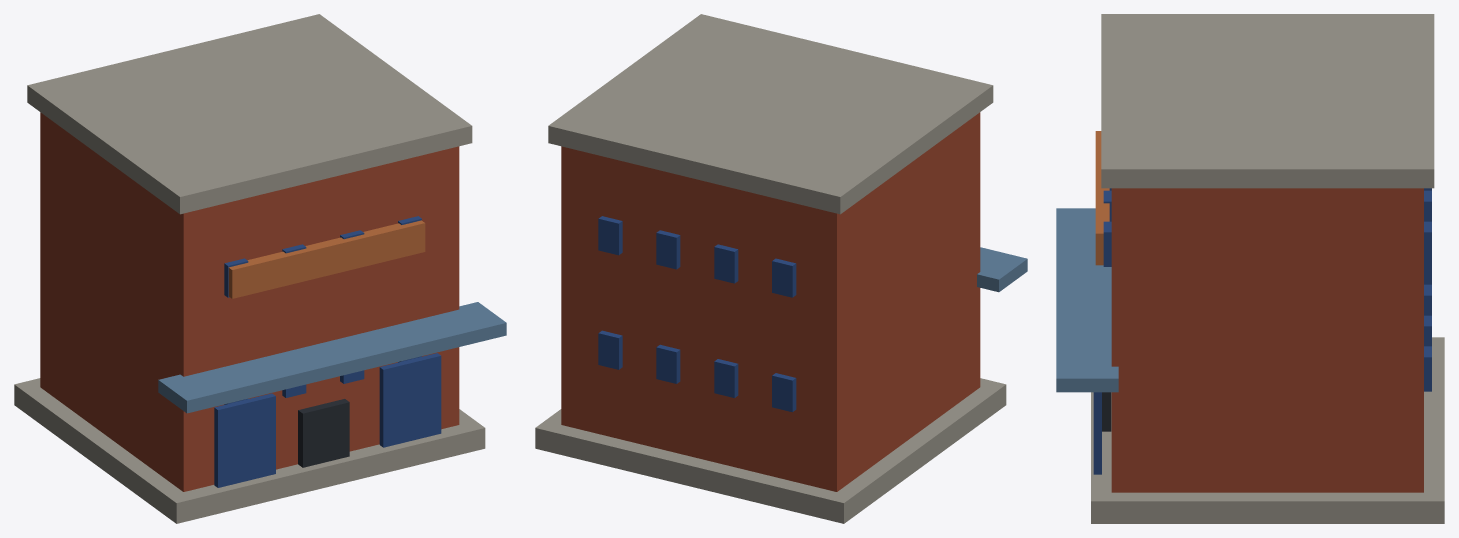
Rendered from bld_commercial_a04.glb.
The picture shows the model from 3 angles, left to right: view 1: azimuth 30°, elevation 25°; view 2: azimuth 150°, elevation 25°; view 3: azimuth 270°, elevation 25°; orthographic projection. The views are drawn at different scales.
Visible parts, largest first — view 1: body; view 2: body; view 3: body.
Boxes of the visible parts, x1,y1,x2,y2 form: body: (14, 14, 506, 523); body: (535, 14, 1027, 523); body: (1056, 14, 1444, 523).
Size of what is drawn, in the model's own units: 5.8 by 5.57 by 5.6.
